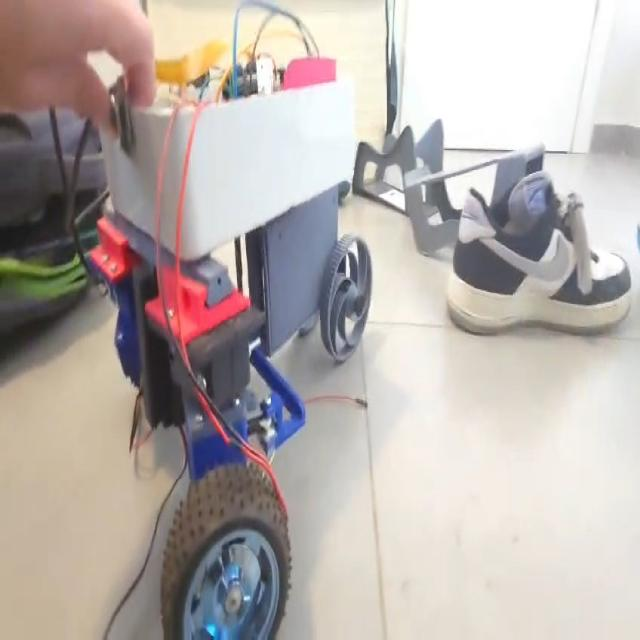Robot: (85, 49, 371, 640)
